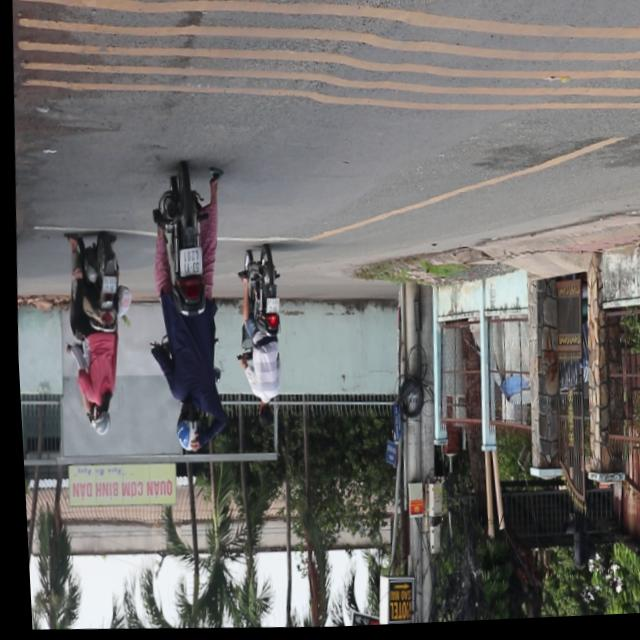helmet: (169, 404, 197, 454), (86, 401, 108, 439)
licenseplate: (135, 163, 234, 458), (55, 231, 132, 441)
nohelmet: (175, 248, 200, 277), (97, 275, 113, 294)
